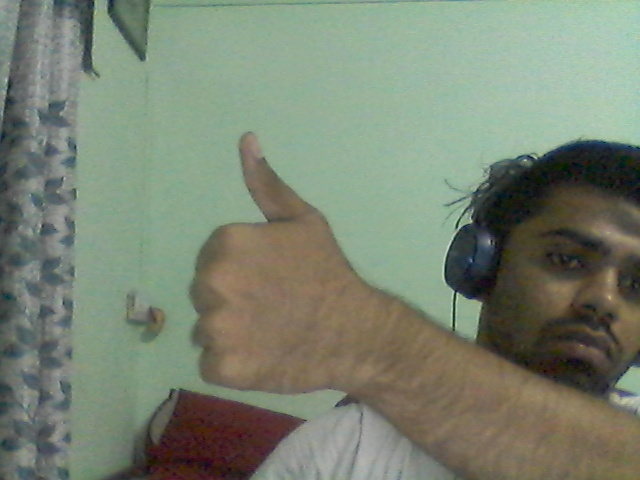Yes: (156, 108, 427, 429)
